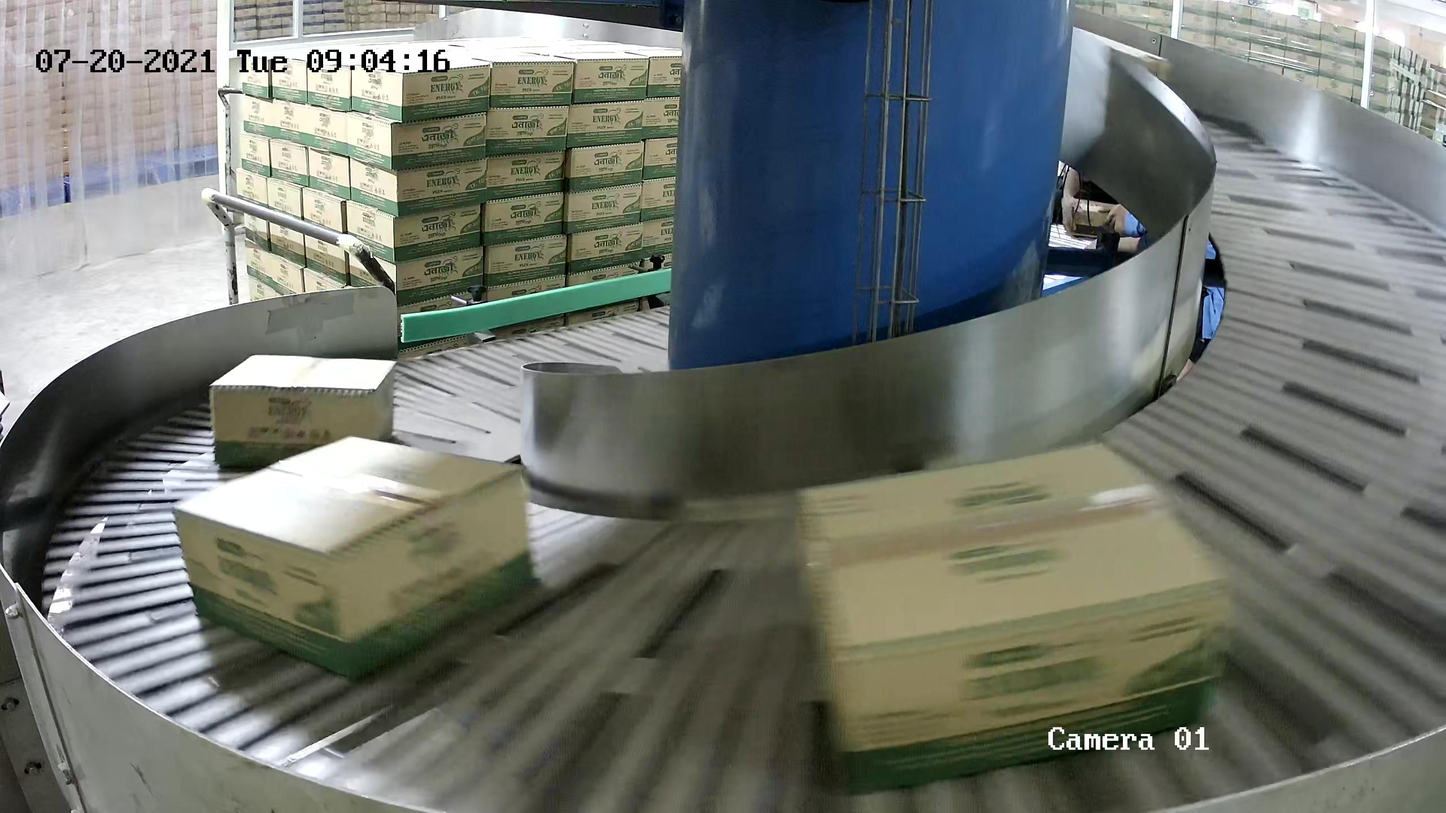Box: (797, 440, 1227, 799), (173, 436, 535, 680), (208, 354, 398, 472)
